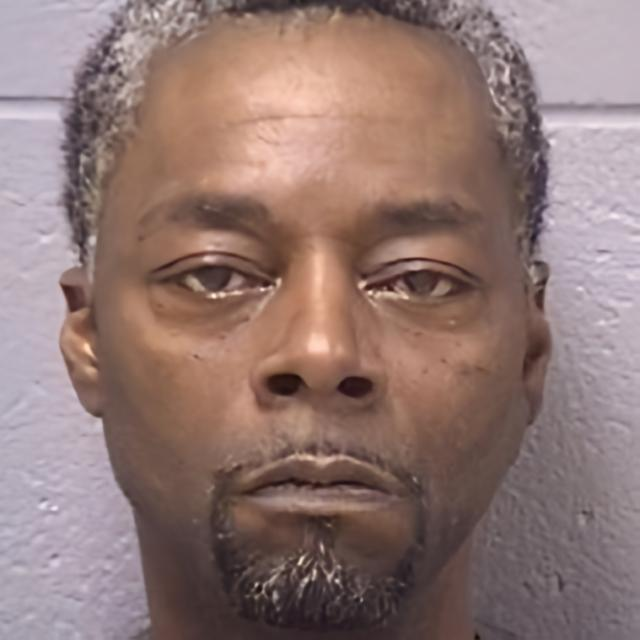neutral: (100, 6, 528, 634)
